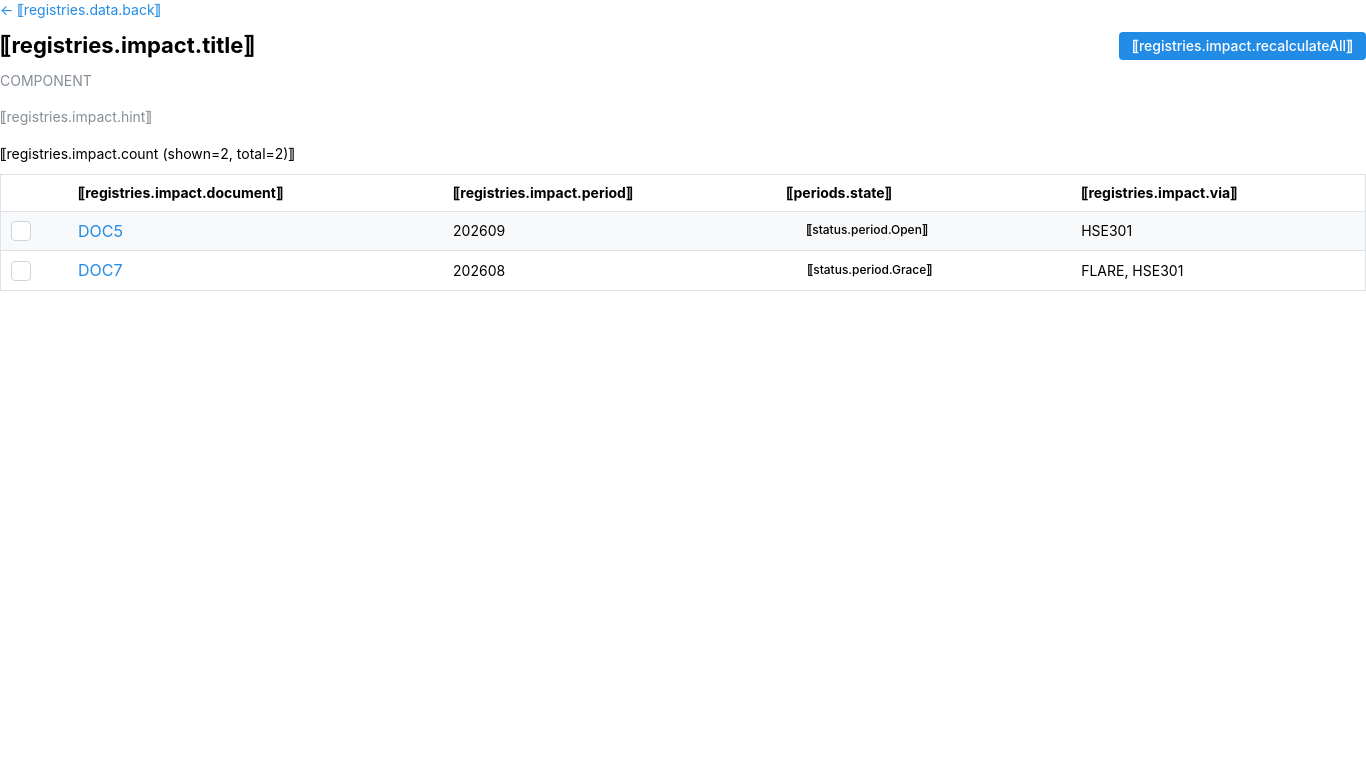
Test: RegistryImpactPage: зачеплені документи і їх перерахунок › нічого не обрано — ставить усі (documentIds: null) з причиною і показує задачу
Expected: the link "DOC5" is shown, [78, 221, 123, 241]
Click the button "⟦registries.impact.recalculateAll⟧". click: (1242, 46)
box: [1119, 32, 1365, 60]
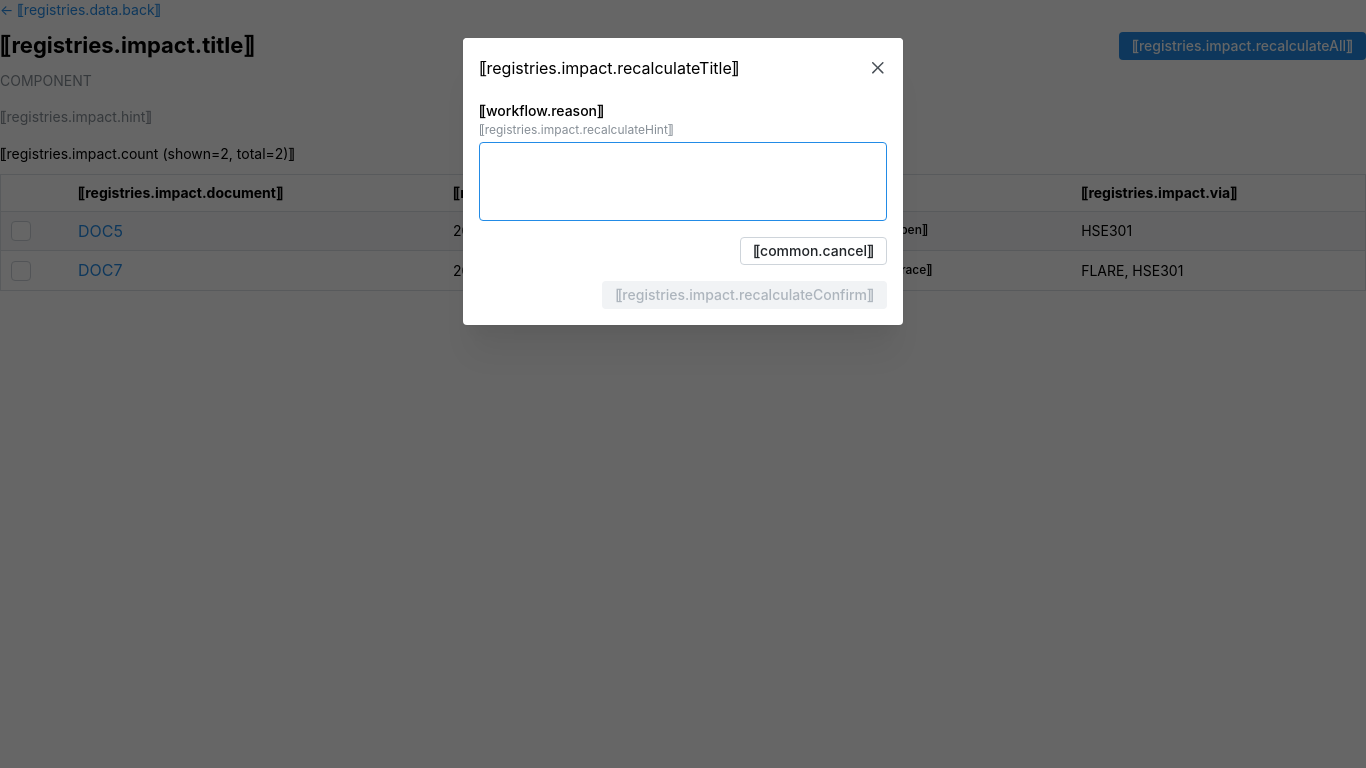
Type "склад газу оновлено" into the text box. click: (683, 182)
box: [479, 143, 887, 222]
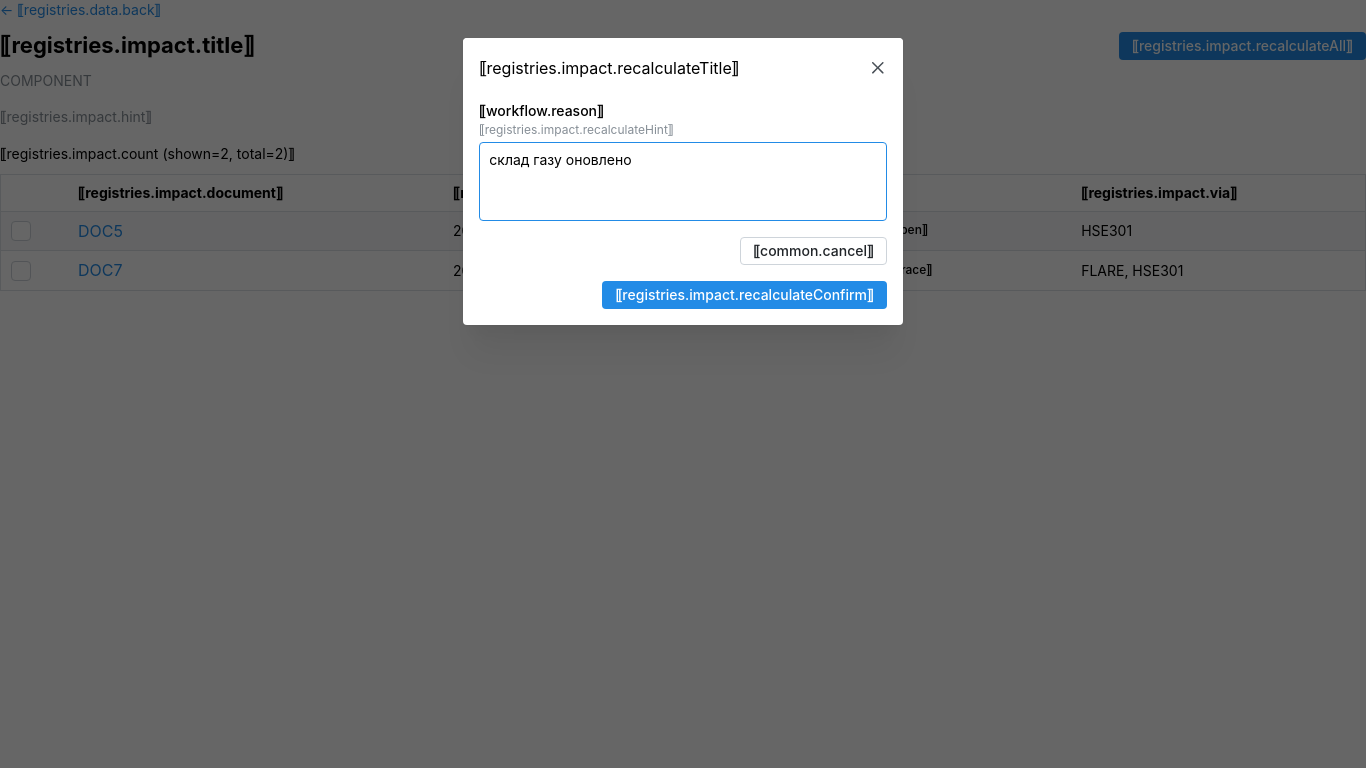
Click the button "⟦registries.impact.recalculateConfirm⟧". click: (745, 296)
box: [602, 282, 887, 310]
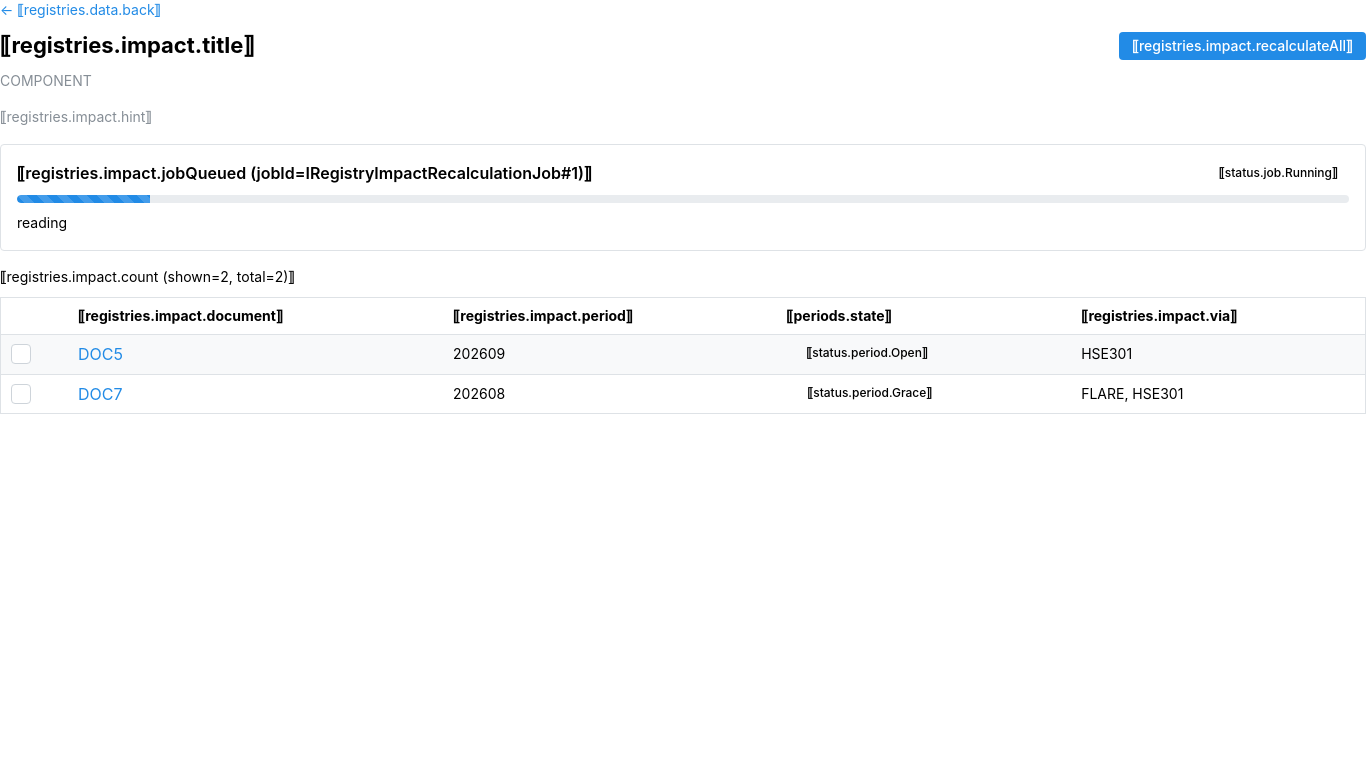
Result: the text "reading" is shown at [17, 214, 67, 232]
